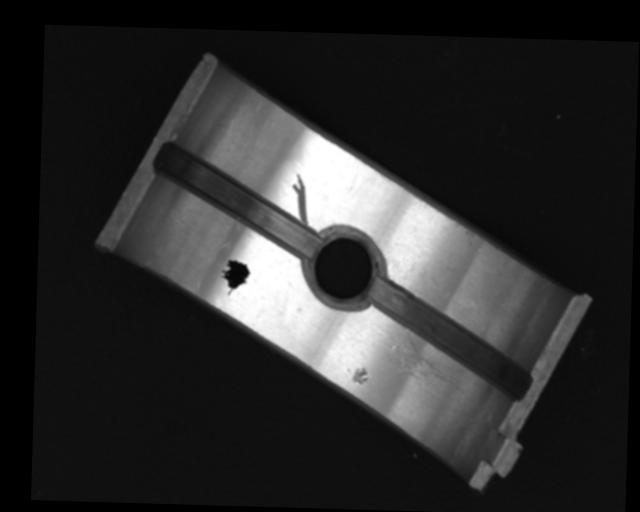blot: (219, 259, 251, 297)
bruise: (346, 366, 369, 386)
gap: (366, 277, 535, 401), (153, 144, 318, 256)
hole: (302, 227, 384, 307)
nick: (290, 173, 309, 224)
scratch: (390, 329, 467, 395)
